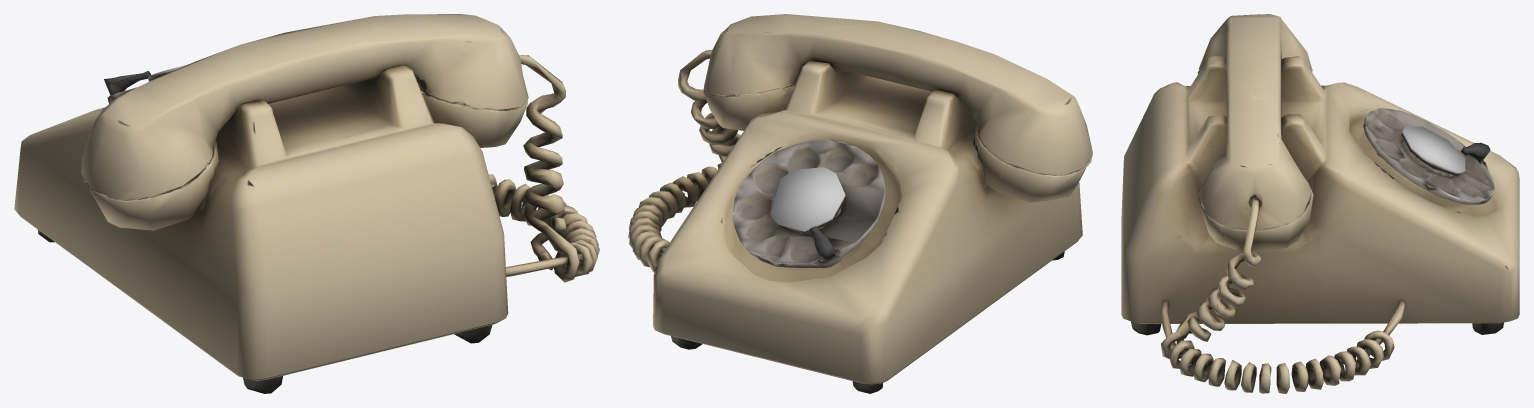
The model's file is desk_phone_offhook.glb.
3 views of the same model, side by side, from view 1: azimuth 30°, elevation 25°; view 2: azimuth 150°, elevation 25°; view 3: azimuth 270°, elevation 25° (orthographic). The views are drawn at different scales.
Bounding box in the file's own units: 0.4714 × 0.2482 × 0.3994.
1 material, 1 textured.
